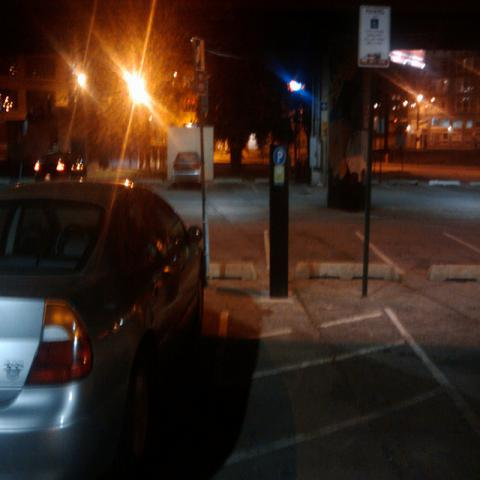car: (1, 180, 205, 475), (33, 149, 84, 181), (172, 151, 202, 190)
